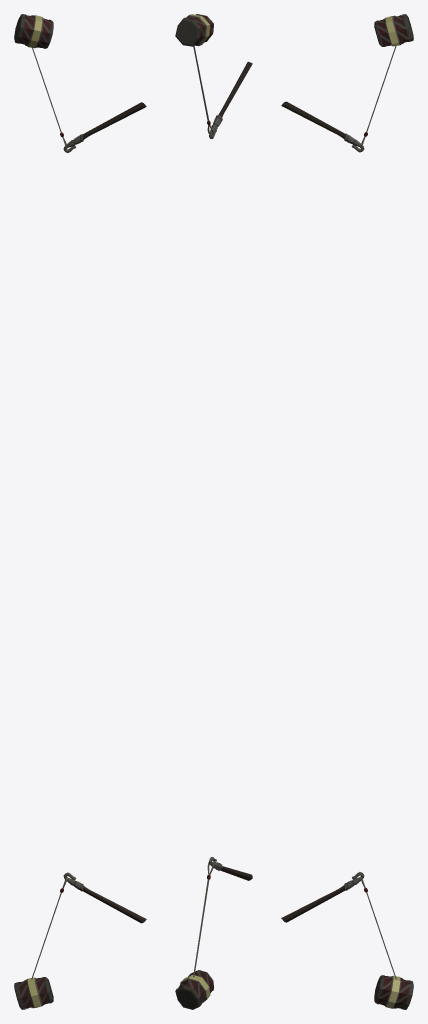
File: largeBowTacticalProTip.glb
3 views of the same model, side by side, from view 1: azimuth 90°, elevation 25°; view 2: azimuth 150°, elevation 25°; view 3: azimuth 270°, elevation 25° (orthographic).
Parts seen in each view (by area): view 1: largeBowTacticalProTip; view 2: largeBowTacticalProTip; view 3: largeBowTacticalProTip.
Part boxes in pixels (left/top/right/bottom): largeBowTacticalProTip: left=14, top=14, right=146, bottom=1009; largeBowTacticalProTip: left=175, top=14, right=252, bottom=1009; largeBowTacticalProTip: left=281, top=14, right=413, bottom=1009.
Size of the model in its own units: 0.0469 by 1.79 by 0.217.
